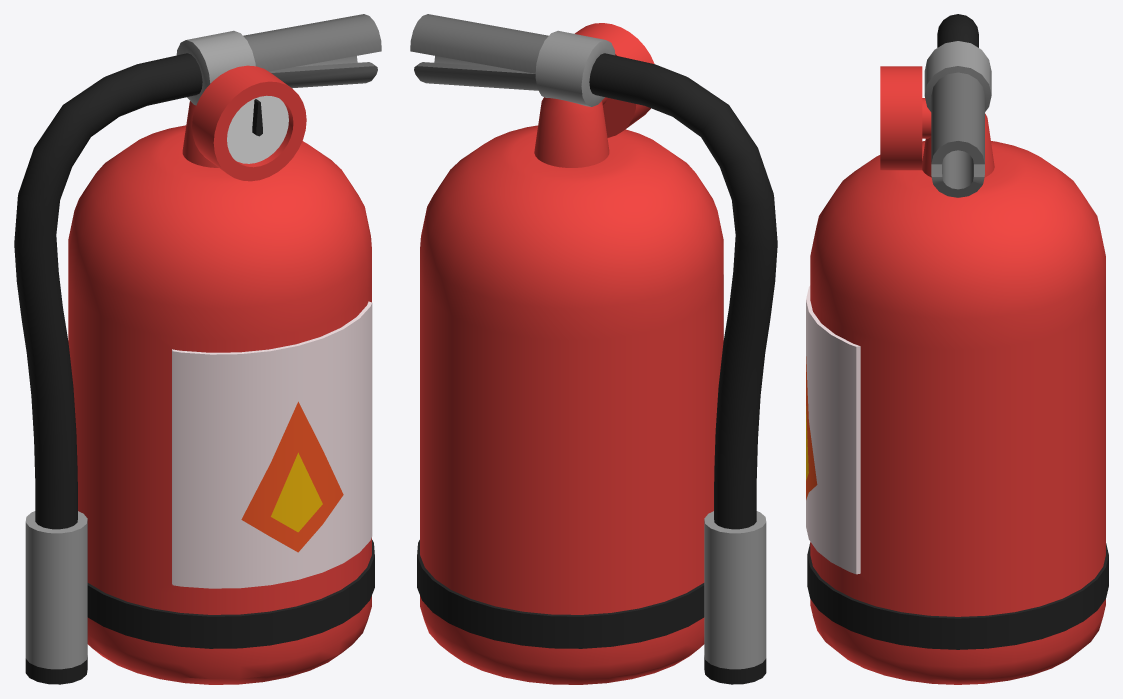
File: fire_extinguisher.glb
The picture shows the model from 3 angles, left to right: view 1: azimuth 30°, elevation 25°; view 2: azimuth 150°, elevation 25°; view 3: azimuth 270°, elevation 25°; orthographic projection. The views are drawn at different scales.
Parts seen in each view (by area): view 1: Circle.2610; view 2: Circle.2610; view 3: Circle.2610.
Boxes of the visible parts, bbox=[...] form: Circle.2610: bbox=[14, 14, 381, 684]; Circle.2610: bbox=[410, 14, 777, 684]; Circle.2610: bbox=[806, 14, 1108, 684].
Bounding box in the file's own units: 1.37 × 2.21 × 1.05.
1 material, 1 textured.
